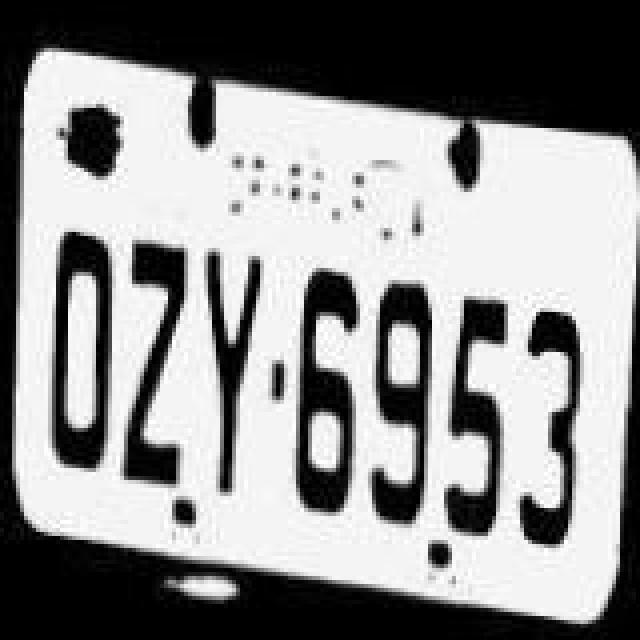3: (510, 290, 590, 550)
5: (432, 274, 516, 542)
6: (282, 244, 362, 520)
9: (362, 256, 434, 528)
O: (44, 226, 124, 502)
Y: (198, 238, 274, 506)
Z: (118, 238, 202, 510)
